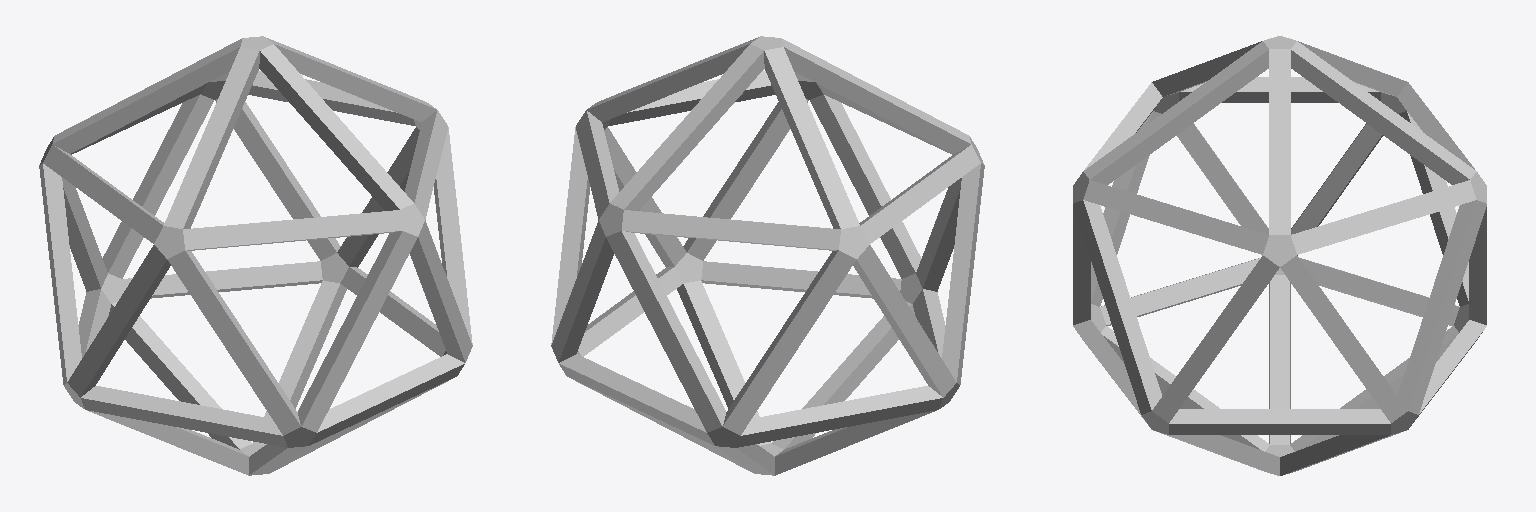
Rendered from shield.obj.
The picture shows the model from 3 angles: view 1: azimuth 30°, elevation 25°; view 2: azimuth 150°, elevation 25°; view 3: azimuth 270°, elevation 25°; orthographic projection.
Parts seen in each view (by area): view 1: Icosphere_Icosphere.001; view 2: Icosphere_Icosphere.001; view 3: Icosphere_Icosphere.001.
Boxes of the visible parts, <box> form: Icosphere_Icosphere.001: <box>39,36,472,475</box>; Icosphere_Icosphere.001: <box>551,36,984,475</box>; Icosphere_Icosphere.001: <box>1073,36,1486,475</box>.
Size of the model in its own units: 1.75 by 1.89 by 1.67.